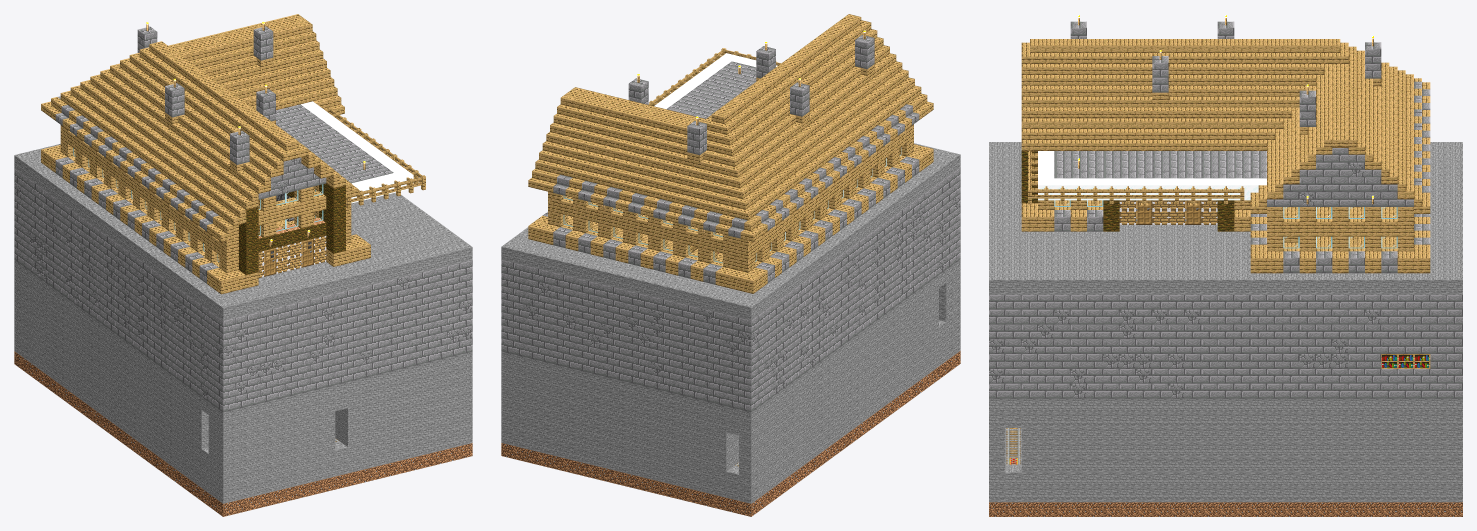
The model's file is train_station.glb.
The picture shows the model from 3 angles, left to right: view 1: azimuth 30°, elevation 25°; view 2: azimuth 150°, elevation 25°; view 3: azimuth 270°, elevation 25°; orthographic projection. The views are drawn at different scales.
Parts seen in each view (by area): view 1: Object_32, Object_34, Object_22, Object_19, Object_5, Object_18, Object_8, Object_33, Object_29, Object_9, Object_24, Object_17; view 2: Object_32, Object_34, Object_22, Object_19, Object_5, Object_33, Object_8, Object_29, Object_9; view 3: Object_32, Object_34, Object_22, Object_19, Object_5, Object_8, Object_29, Object_9, Object_24, Object_18, Object_33, Object_17 (+2 smaller).
Boxes of the visible parts, <box> form: Object_32: <box>14,144,472,503</box>; Object_34: <box>14,26,472,412</box>; Object_22: <box>41,14,358,241</box>; Object_19: <box>41,22,370,294</box>; Object_5: <box>14,351,472,516</box>; Object_18: <box>239,183,345,275</box>; Object_8: <box>70,19,355,283</box>; Object_33: <box>55,96,218,231</box>; Object_29: <box>301,101,413,203</box>; Object_9: <box>324,106,425,208</box>; Object_24: <box>258,193,326,277</box>; Object_17: <box>264,238,313,276</box>; Object_32: <box>501,143,960,503</box>; Object_34: <box>501,35,960,412</box>; Object_22: <box>528,14,933,241</box>; Object_19: <box>528,64,933,293</box>; Object_5: <box>501,351,960,516</box>; Object_33: <box>553,104,919,238</box>; Object_8: <box>577,81,919,272</box>; Object_29: <box>654,53,777,109</box>; Object_9: <box>648,48,780,106</box>; Object_32: <box>989,142,1462,502</box>; Object_34: <box>989,21,1462,398</box>; Object_22: <box>1021,39,1430,244</box>; Object_19: <box>1021,64,1430,273</box>; Object_5: <box>989,502,1462,516</box>; Object_8: <box>1054,126,1413,244</box>; Object_29: <box>1038,151,1266,200</box>; Object_9: <box>1028,151,1358,244</box>; Object_24: <box>1119,200,1217,224</box>; Object_18: <box>1021,151,1234,231</box>; Object_33: <box>1414,81,1430,192</box>; Object_17: <box>1136,200,1201,224</box>.
Size of the model in its own units: 0.7143 by 0.9531 by 1.04.
36 materials, 36 textured.
